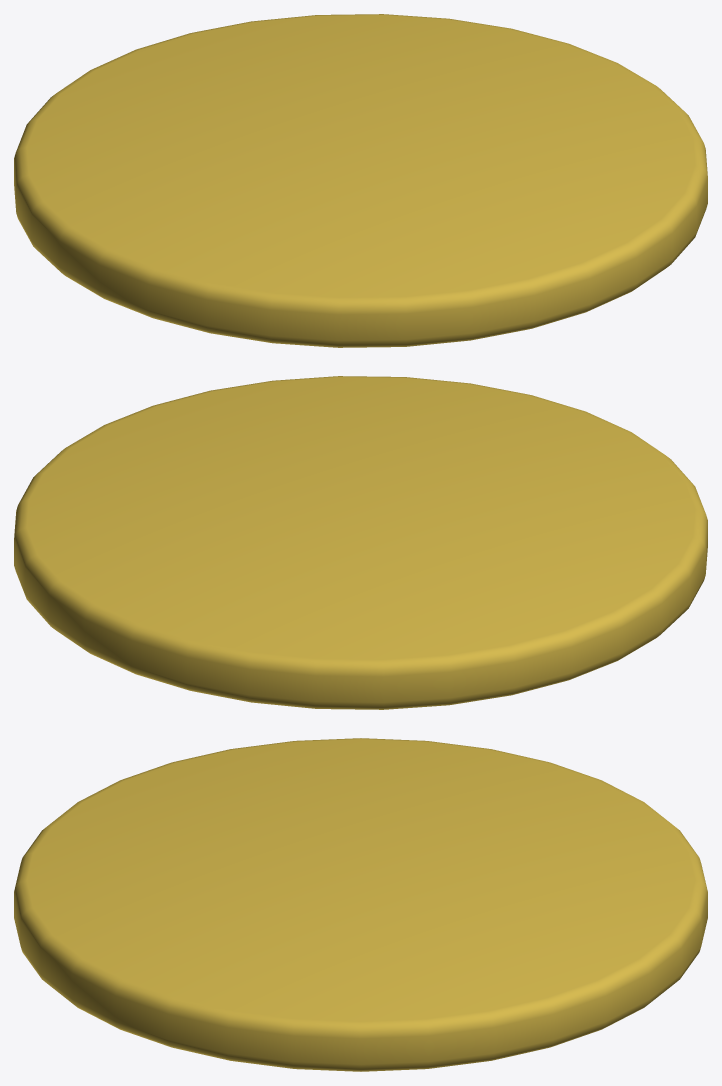
The model's file is GoldCoin.fbx.
The picture shows the model from 3 angles, top to bottom: view 1: azimuth 30°, elevation 25°; view 2: azimuth 150°, elevation 25°; view 3: azimuth 270°, elevation 25°; orthographic projection.
Visible parts, largest first — view 1: Circle; view 2: Circle; view 3: Circle.
Part boxes in pixels (<box>): Circle: <box>14,14,707,347</box>; Circle: <box>14,376,707,709</box>; Circle: <box>14,738,707,1071</box>.
Bounding box in the file's own units: 200 × 15.57 × 200.
